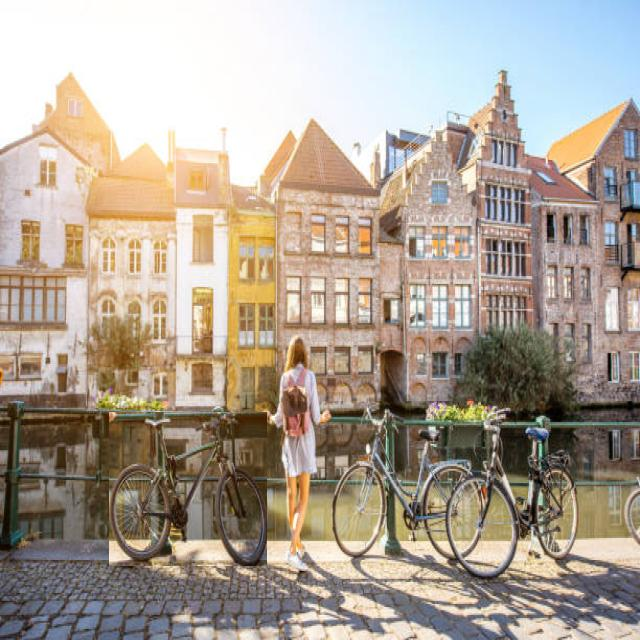bicycle: (110, 413, 267, 566), (446, 409, 578, 578), (332, 411, 470, 558)
